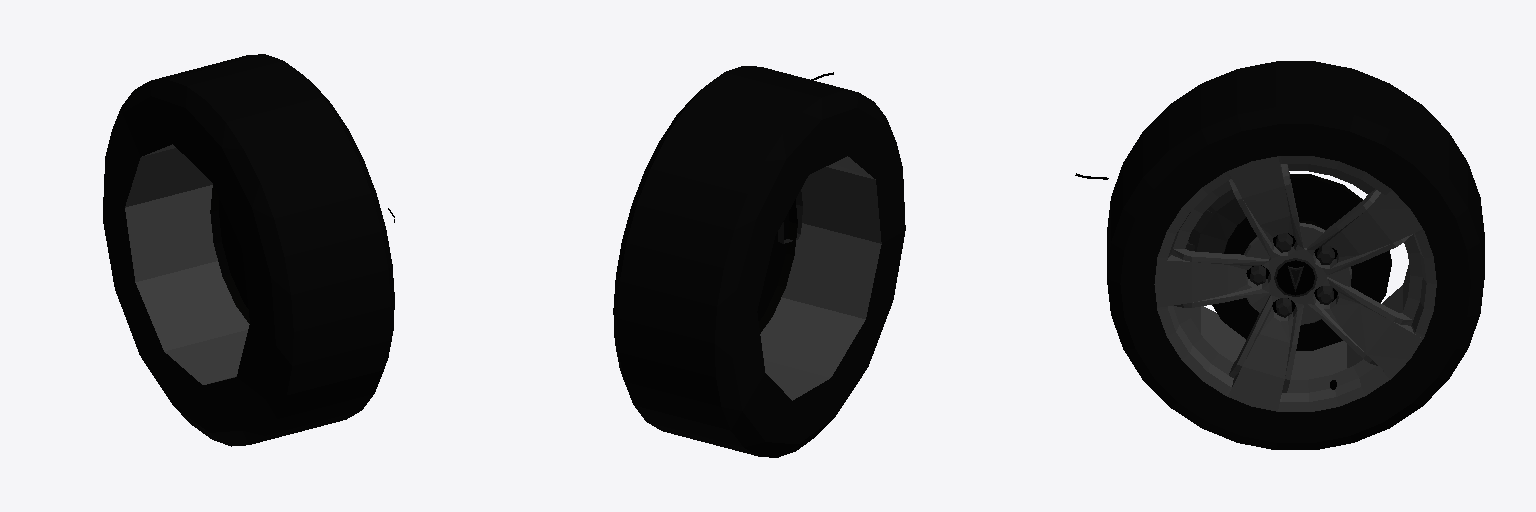
File: FR-Weel.obj
The picture shows the model from 3 angles: view 1: azimuth 30°, elevation 25°; view 2: azimuth 150°, elevation 25°; view 3: azimuth 270°, elevation 25°; orthographic projection.
Visible parts, largest first — view 1: obj0; view 2: obj0; view 3: obj0.
Boxes of the visible parts, x1,y1,x2,y2 form: obj0: [103, 54, 394, 446]; obj0: [613, 66, 905, 457]; obj0: [1075, 61, 1484, 449].
Bounding box in the file's own units: 0.8208 × 2.17 × 2.35.